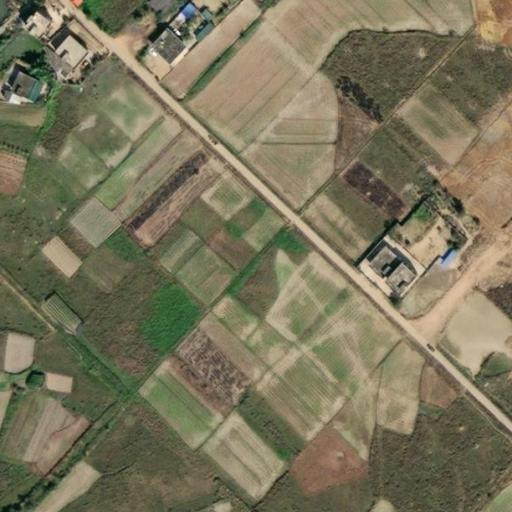building: (360, 244, 415, 299), (35, 228, 86, 281), (38, 286, 86, 334), (142, 28, 180, 66), (46, 33, 83, 71), (0, 331, 33, 373), (19, 11, 50, 41), (3, 71, 33, 101), (434, 242, 462, 271), (41, 369, 73, 394), (189, 15, 216, 42)
